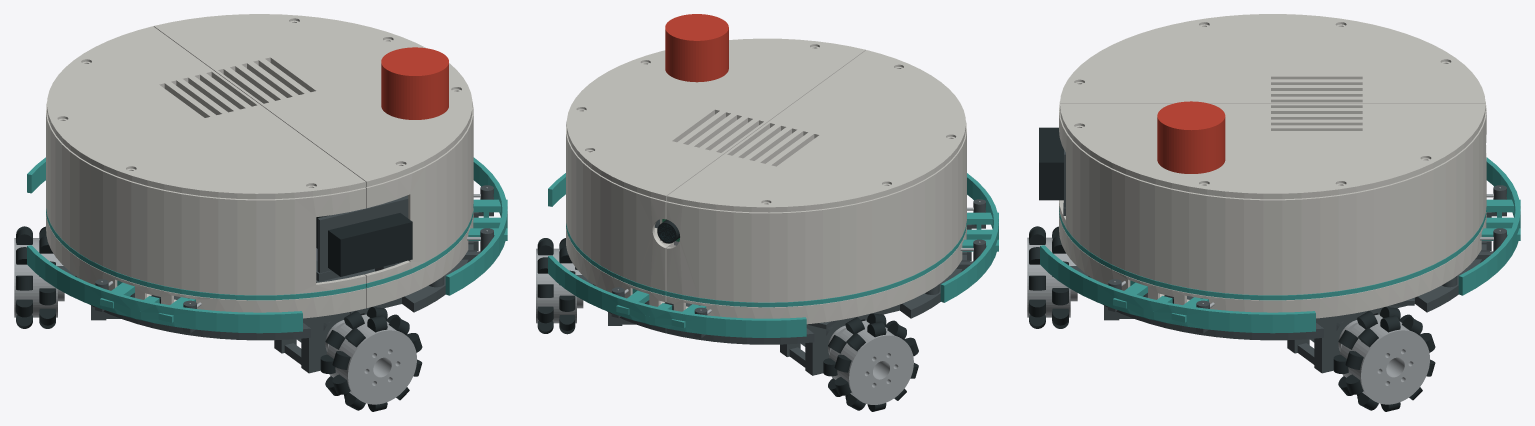
File: assembly.glb
The picture shows the model from 3 angles, left to right: view 1: azimuth 30°, elevation 25°; view 2: azimuth 150°, elevation 25°; view 3: azimuth 270°, elevation 25°; orthographic projection. The views are drawn at different scales.
Parts seen in each view (by area): view 1: shell-left, lid-left, lid-right, shell-right, bumper-210, wheel-core-270, stop-button, main-rocker-actuator, bumper-330, wheel-rollers-270, wheel-rollers-150, main-switch-panel (+9 smaller); view 2: shell-left, lid-left, lid-right, shell-right, bumper-90, wheel-core-150, stop-button, wheel-rollers-150, bumper-210, deck-left, wheel-rollers-30, trim-left (+5 smaller); view 3: shell-right, lid-left, lid-right, bumper-330, wheel-core-30, stop-button, bumper-90, wheel-rollers-30, deck-right, trim-right, wheel-rollers-270, main-rocker-actuator (+4 smaller).
Part boxes in pixels (box(x1,y1,x2,y2)): shell-left: box(46, 101, 366, 318); lid-left: box(47, 26, 365, 199); lid-right: box(153, 14, 472, 187); shell-right: box(365, 103, 473, 307); bumper-210: box(27, 245, 302, 333); wheel-core-270: box(326, 314, 416, 404); stop-button: box(381, 47, 448, 119); main-rocker-actuator: box(328, 213, 412, 276); bumper-330: box(445, 157, 507, 295); wheel-rollers-270: box(320, 307, 422, 411); wheel-rollers-150: box(16, 226, 55, 328); main-switch-panel: box(316, 197, 408, 281); shell-left: box(666, 120, 966, 324); lid-left: box(667, 50, 965, 212); lid-right: box(566, 38, 865, 200); shell-right: box(566, 122, 667, 306); bumper-90: box(548, 255, 806, 337); wheel-core-150: box(829, 320, 913, 404); stop-button: box(665, 14, 728, 82); wheel-rollers-150: box(823, 313, 918, 411); bumper-210: box(940, 173, 998, 302); deck-left: box(666, 269, 964, 344); wheel-rollers-30: box(537, 238, 575, 334); trim-left: box(666, 221, 966, 307); shell-right: box(1059, 110, 1486, 318); lid-left: box(1060, 14, 1485, 103); lid-right: box(1060, 104, 1485, 199); bumper-330: box(1040, 245, 1315, 333); wheel-core-30: box(1339, 314, 1429, 404); stop-button: box(1157, 101, 1225, 173); bumper-90: box(1458, 157, 1520, 295); wheel-rollers-30: box(1333, 307, 1435, 411); deck-right: box(1070, 259, 1484, 340); trim-right: box(1059, 207, 1486, 300); wheel-rollers-270: box(1029, 226, 1068, 328); main-rocker-actuator: box(1039, 127, 1063, 200).
Bounding box in the file's own units: 0.292 × 0.1716 × 0.2906.
